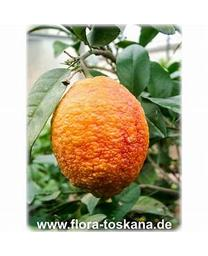lemon: (51, 77, 149, 196)
